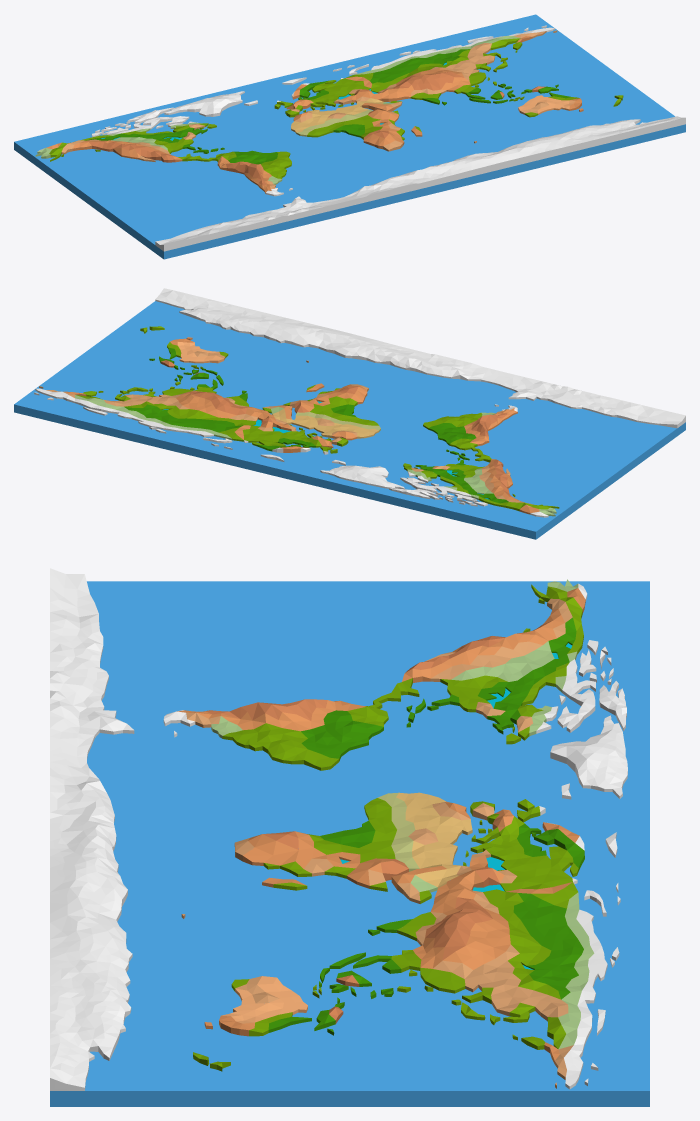
Rendered from earthMap.glb.
3 views of the same model, one above another, from view 1: azimuth 30°, elevation 25°; view 2: azimuth 150°, elevation 25°; view 3: azimuth 270°, elevation 25° (orthographic). The views are drawn at different scales.
Visible parts, largest first — view 1: huitugou_2008_21; view 2: huitugou_2008_21; view 3: huitugou_2008_21.
Part boxes in pixels (x1,y1,x2,y2): huitugou_2008_21: (14,14,685,259); huitugou_2008_21: (14,288,685,539); huitugou_2008_21: (50,568,649,1106).
Bounding box in the file's own units: 80.71 × 2.9 × 40.16.
